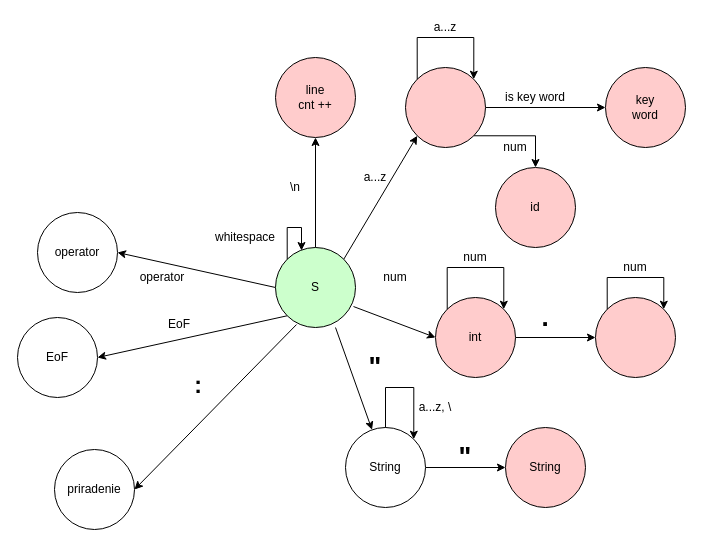
Image size: 703x547. Some labels were removed from this diagram. Each missing label, with the centre of its shape:
"id?" belongs at pixel 445 107.
"number" belongs at pixel 635 337.
